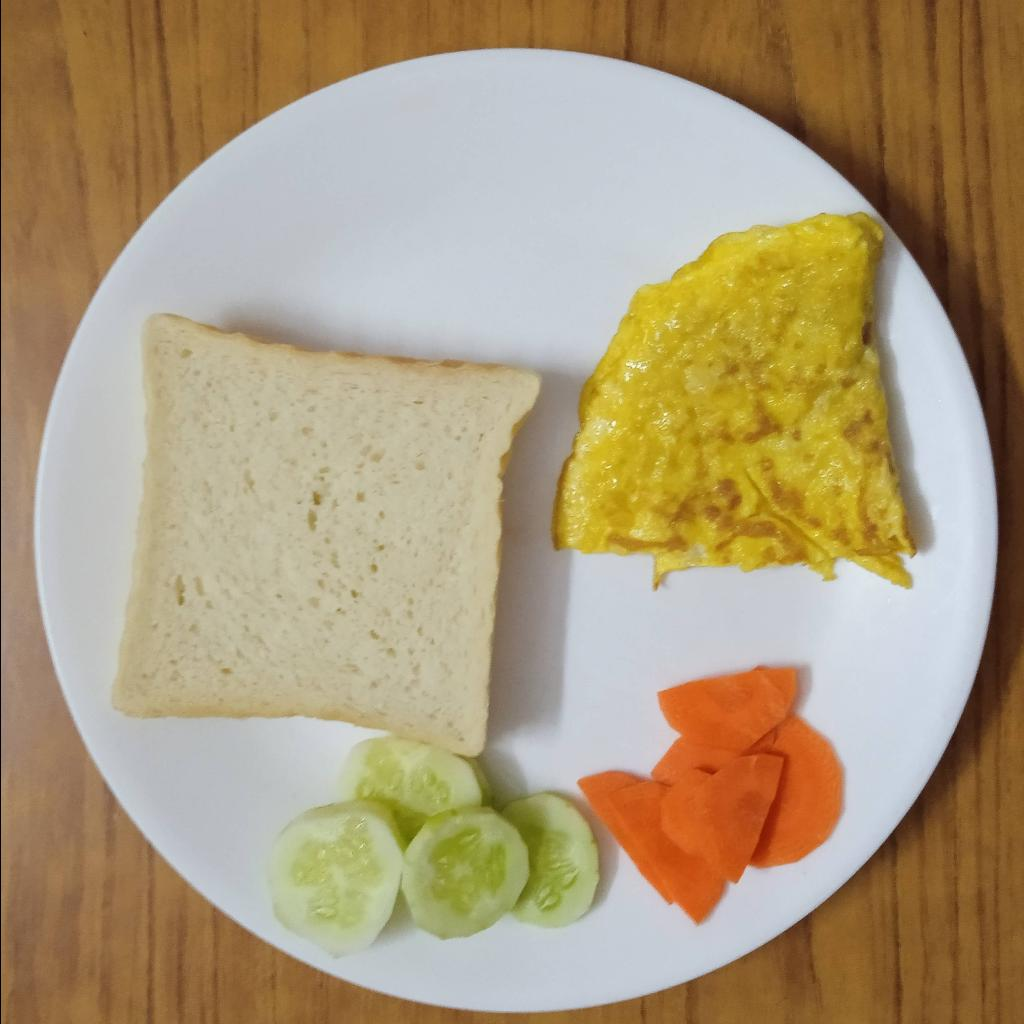bread: (107, 313, 544, 759)
carrot: (579, 667, 843, 927)
cucumber: (266, 743, 601, 956)
egg-poached: (553, 213, 920, 588)
